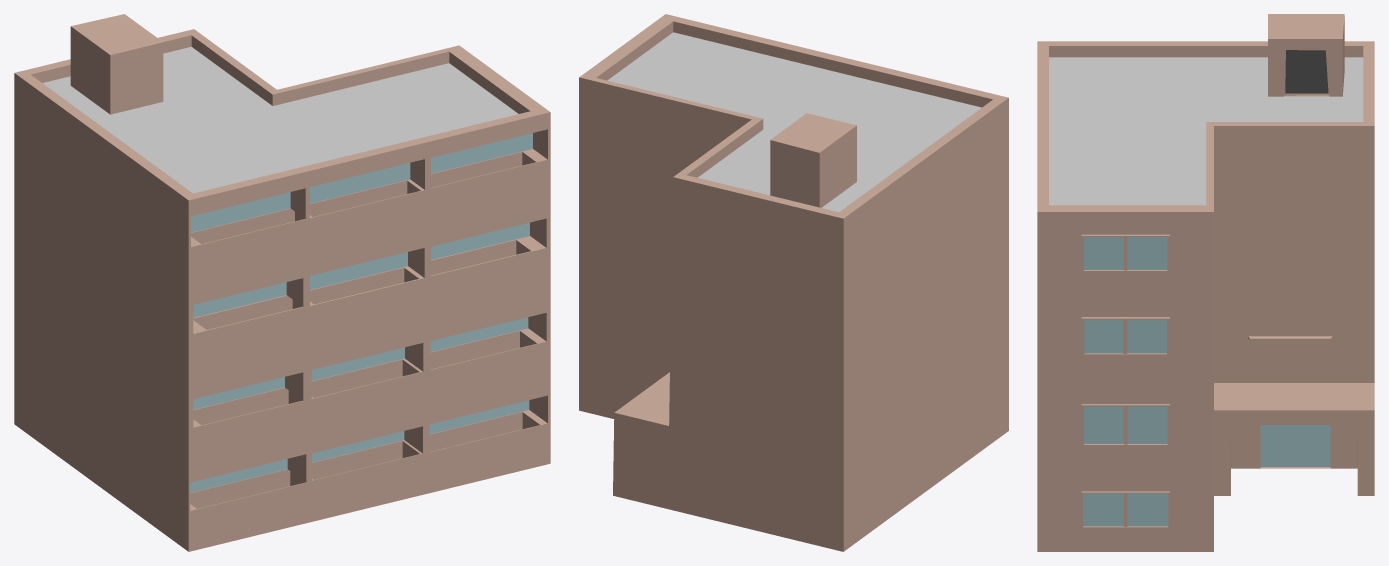
Rendered from house_ver2_0914.fbx.
The picture shows the model from 3 angles, left to right: view 1: azimuth 30°, elevation 25°; view 2: azimuth 150°, elevation 25°; view 3: azimuth 270°, elevation 25°; orthographic projection. The views are drawn at different scales.
Parts seen in each view (by area): view 1: Cube; view 2: Cube; view 3: Cube.
Boxes of the visible parts, box(x1,y1,x2,y2) form: Cube: box(14, 14, 550, 551); Cube: box(579, 14, 1008, 551); Cube: box(1037, 14, 1374, 551).
Size of the model in its own units: 1162 by 1216 by 962.
